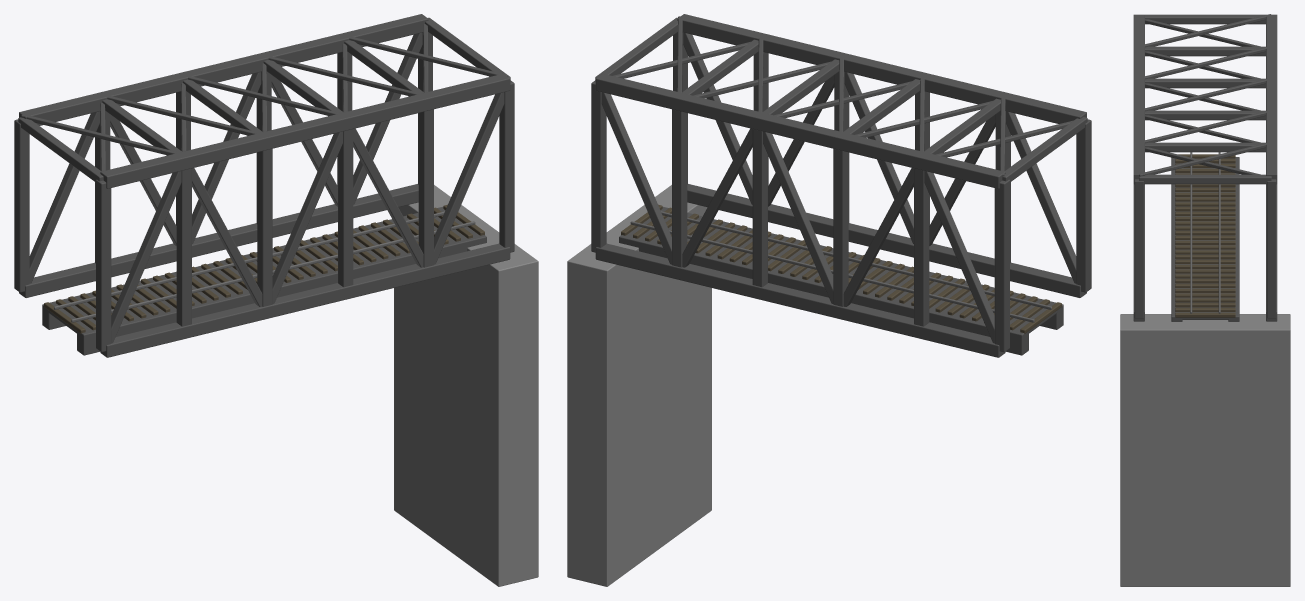
Rendered from Bridge_Mesh.fbx.
3 renders of one model, left to right at view 1: azimuth 30°, elevation 25°; view 2: azimuth 150°, elevation 25°; view 3: azimuth 270°, elevation 25°, orthographic. The views are drawn at different scales.
Visible parts, largest first — view 1: Concrete_Pillar, Chord_Top_R, Chord_Bottom_R, Chord_Top_L, Chord_Bottom_L, Deck_Center_Stringer, Deck_Girder_R, Post_R_1, Post_L_1, Post_R_6, Post_R_3, Post_R_4 (+27 smaller); view 2: Concrete_Pillar, Chord_Top_L, Chord_Bottom_L, Chord_Top_R, Chord_Bottom_R, Deck_Center_Stringer, Deck_Girder_L, Post_L_1, Post_R_1, Post_L_6, Post_L_3, Post_L_4 (+26 smaller); view 3: Concrete_Pillar, Deck_Center_Stringer, Chord_Top_L, Chord_Top_R, Overhead_Strut_6, Post_L_6, Post_R_6, Overhead_Strut_1, Overhead_Strut_2, Overhead_Strut_3, Overhead_Strut_4, Overhead_Strut_5 (+44 smaller).
Part boxes in pixels (x1,y1,x2,y2): Concrete_Pillar: (394,185,538,586); Chord_Top_R: (100,73,510,188); Chord_Bottom_R: (100,243,510,357); Chord_Top_L: (19,14,428,125); Chord_Bottom_L: (19,184,418,297); Deck_Center_Stringer: (42,207,486,337); Deck_Girder_R: (77,233,486,355); Post_R_1: (96,179,111,352); Post_L_1: (14,119,29,292); Post_R_6: (499,80,514,252); Post_R_3: (257,148,272,306); Post_R_4: (338,129,353,287); Concrete_Pillar: (567,185,711,586); Chord_Top_L: (595,73,1005,188); Chord_Bottom_L: (595,243,1005,357); Chord_Top_R: (677,14,1086,123); Chord_Bottom_R: (687,184,1086,297); Deck_Center_Stringer: (619,207,1063,337); Deck_Girder_L: (619,233,1028,355); Post_L_1: (994,179,1009,352); Post_R_1: (1076,119,1091,292); Post_L_6: (591,80,606,252); Post_L_3: (833,148,848,306); Post_L_4: (752,129,767,287); Concrete_Pillar: (1120,314,1290,586); Deck_Center_Stringer: (1171,157,1239,319); Chord_Top_L: (1266,14,1277,184); Chord_Top_R: (1133,14,1144,184); Overhead_Strut_6: (1139,174,1271,184); Post_L_6: (1267,179,1276,318); Post_R_6: (1134,179,1143,318); Overhead_Strut_1: (1145,14,1265,24); Overhead_Strut_2: (1145,46,1265,56); Overhead_Strut_3: (1145,78,1265,88); Overhead_Strut_4: (1145,110,1265,120); Overhead_Strut_5: (1145,142,1265,152).
Bounding box in the file's own units: 21.25 × 9 × 23.6.
